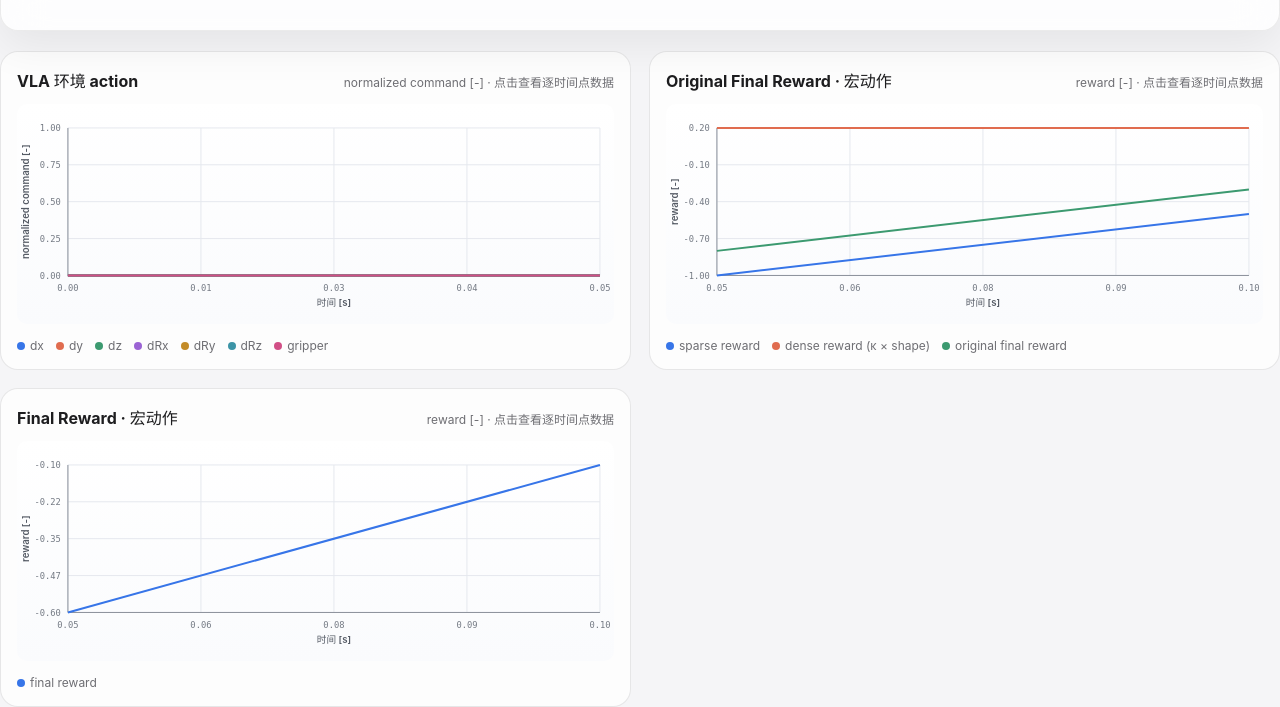
trajectory detail stage integration › plots generated Final separately from its three original components
This screenshot has width=1280, height=707.
(page scrolled)
Expected: the text "Original Final Reward · 宏动作" is shown, x1=666 y1=68 x2=892 y2=92
Expected: the text "Final Reward · 宏动作" is shown, x1=17 y1=405 x2=178 y2=429
Click the button with aria-label "查看Final Reward · 宏动作逐时间点数据" at (316, 560), box x1=17 y1=429 x2=614 y2=690
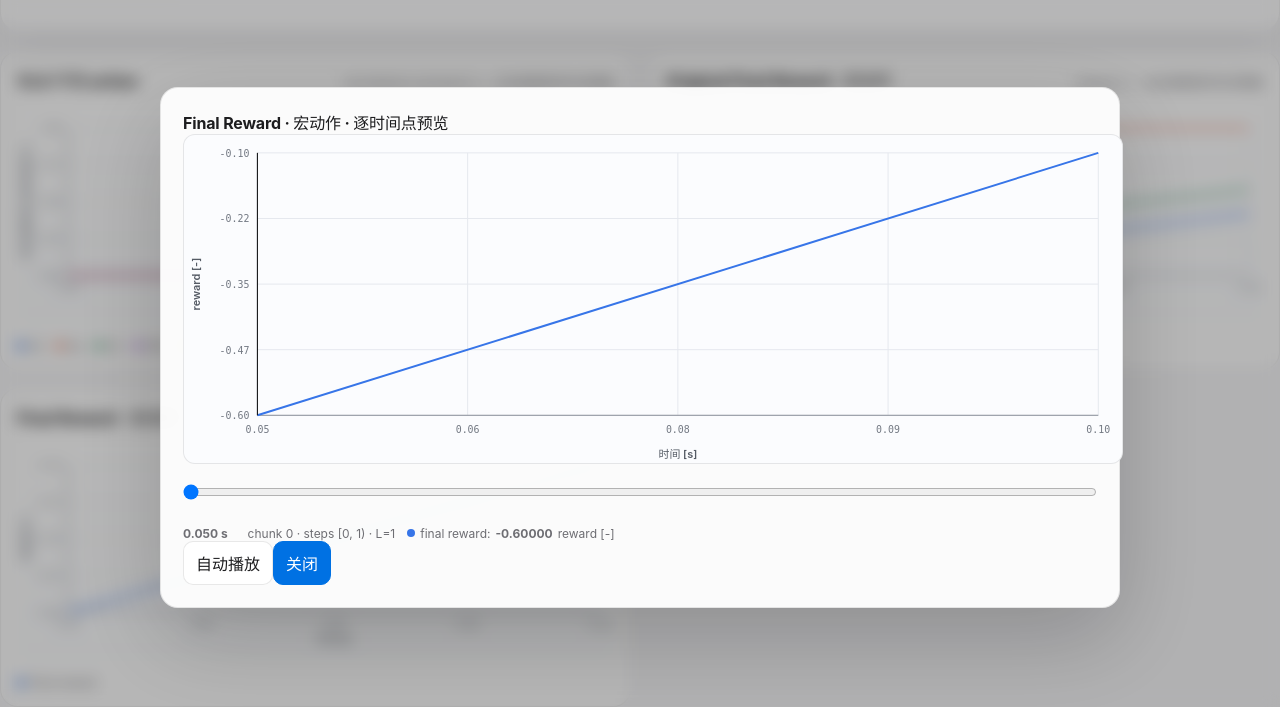
Result: the text "-0.60000" is shown at x1=496 y1=526 x2=553 y2=540
